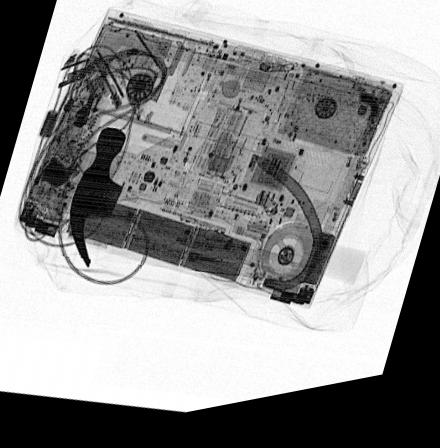Hammer: (68, 130, 366, 298)
